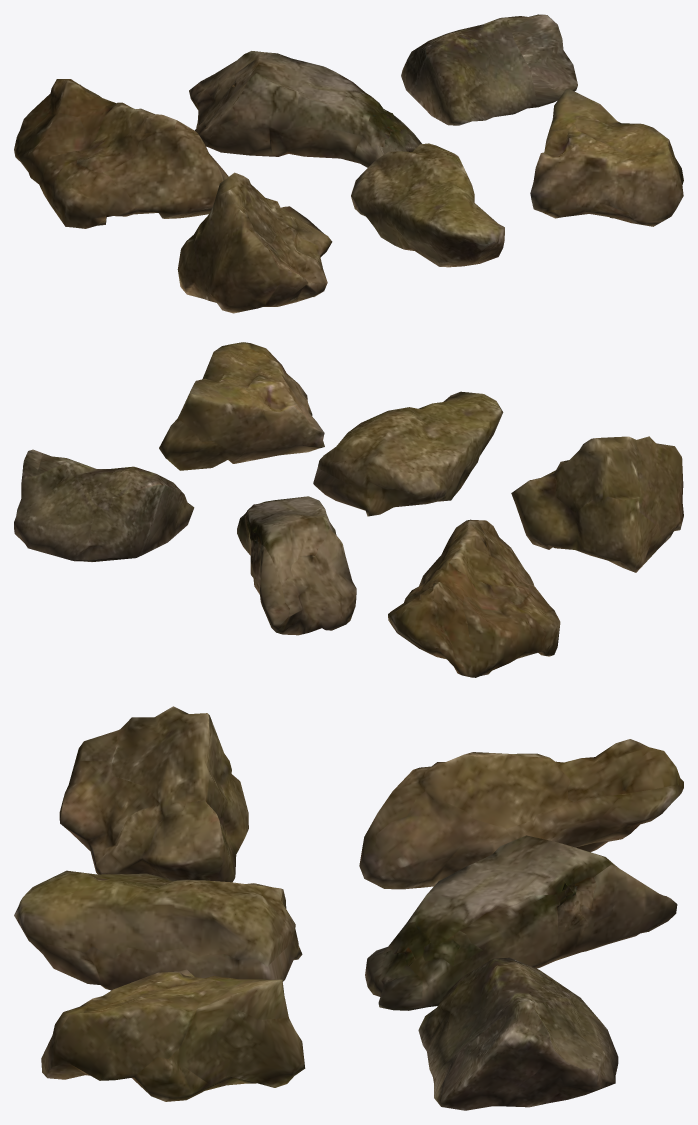
The model's file is rock_moss_set_01.glb.
3 views of the same model, one above another, from view 1: azimuth 30°, elevation 25°; view 2: azimuth 150°, elevation 25°; view 3: azimuth 270°, elevation 25° (orthographic). The views are drawn at different scales.
Visible parts, largest first — view 1: rock_moss_set_01_rock01; view 2: rock_moss_set_01_rock01; view 3: rock_moss_set_01_rock01.
Boxes of the visible parts, box(x1,y1,x2,y2) form: rock_moss_set_01_rock01: box(14, 14, 683, 313); rock_moss_set_01_rock01: box(14, 342, 683, 677); rock_moss_set_01_rock01: box(14, 706, 683, 1110).
Bounding box in the file's own units: 8 × 1.76 × 6.94.
1 material, 1 textured.
